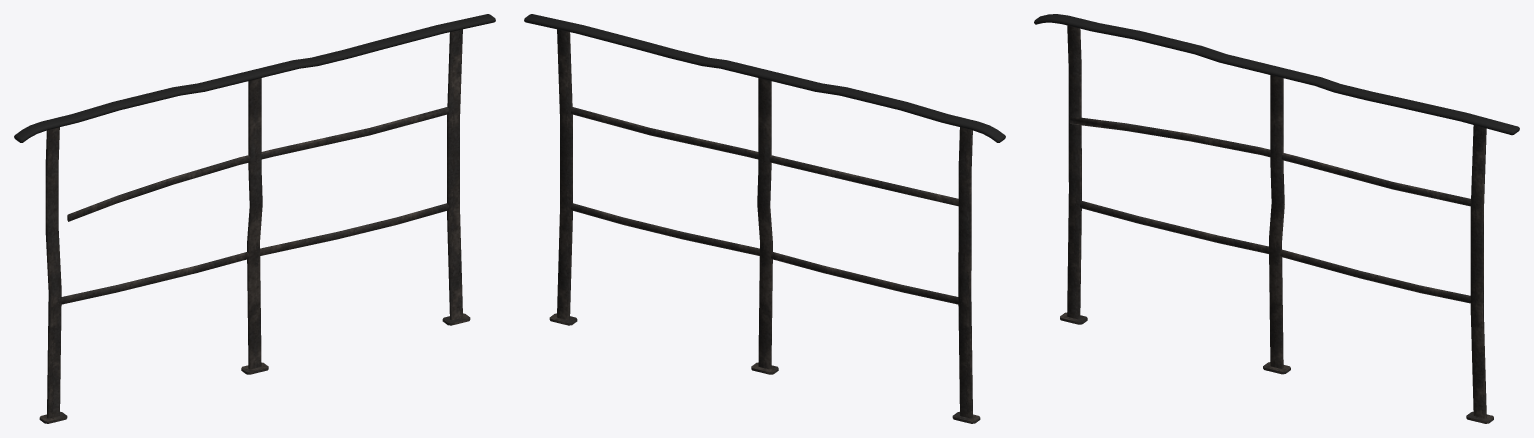
Rendered from hand_rail_3.obj.
3 views of the same model, side by side, from view 1: azimuth 30°, elevation 25°; view 2: azimuth 150°, elevation 25°; view 3: azimuth 330°, elevation 25° (orthographic).
Visible parts, largest first — view 1: hand_rail_3; view 2: hand_rail_3; view 3: hand_rail_3.
Part boxes in pixels (left/top/right/bottom): hand_rail_3: left=14, top=14, right=495, bottom=423; hand_rail_3: left=524, top=14, right=1005, bottom=423; hand_rail_3: left=1034, top=14, right=1519, bottom=423.
Bounding box in the file's own units: 2.13 × 1.28 × 0.1054.
